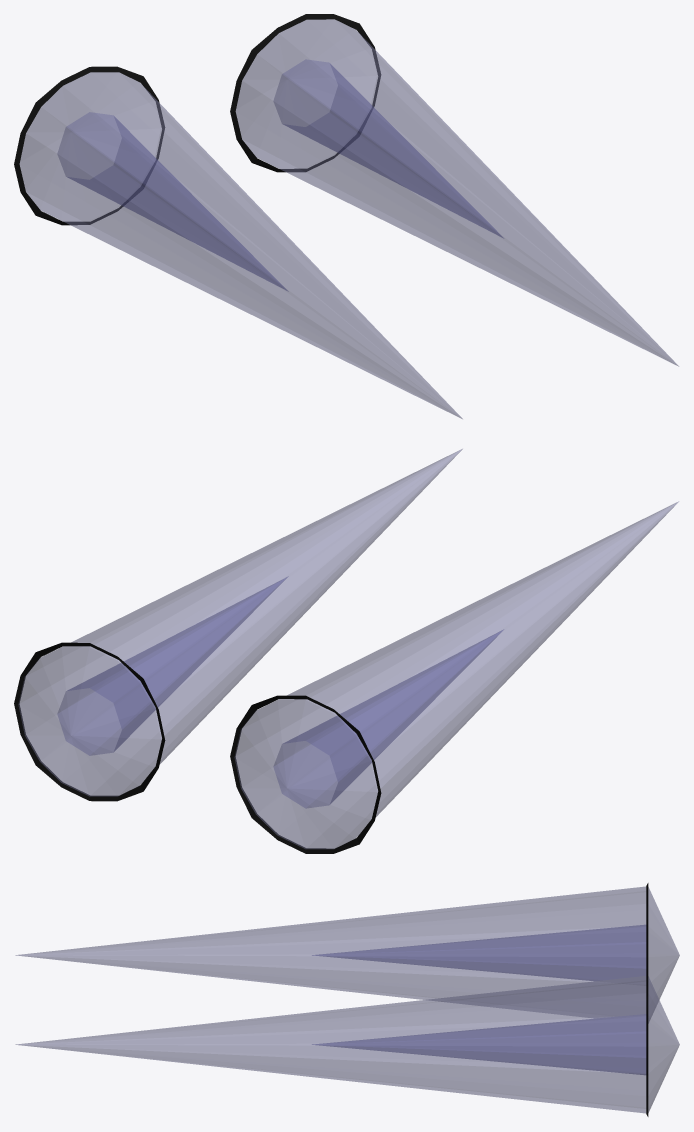
The model's file is Bunner_RafaleNG.obj.
3 renders of one model, top to bottom at view 1: azimuth 30°, elevation 25°; view 2: azimuth 150°, elevation 25°; view 3: azimuth 270°, elevation 25°, orthographic. The views are drawn at different scales.
Parts seen in each view (by area): view 1: ShapeIndexedFaceSet.062_ShapeIndexedFaceSet.063, ShapeIndexedFaceSet.060_ShapeIndexedFaceSet.061, ShapeIndexedFaceSet.061_ShapeIndexedFaceSet.062, ShapeIndexedFaceSet.059_ShapeIndexedFaceSet.060, ShapeIndexedFaceSet.008_ShapeIndexedFaceSet.009; view 2: ShapeIndexedFaceSet.062_ShapeIndexedFaceSet.063, ShapeIndexedFaceSet.060_ShapeIndexedFaceSet.061, ShapeIndexedFaceSet.059_ShapeIndexedFaceSet.060, ShapeIndexedFaceSet.061_ShapeIndexedFaceSet.062, ShapeIndexedFaceSet.008_ShapeIndexedFaceSet.009; view 3: ShapeIndexedFaceSet.062_ShapeIndexedFaceSet.063, ShapeIndexedFaceSet.060_ShapeIndexedFaceSet.061, ShapeIndexedFaceSet.061_ShapeIndexedFaceSet.062, ShapeIndexedFaceSet.059_ShapeIndexedFaceSet.060, ShapeIndexedFaceSet.008_ShapeIndexedFaceSet.009.
Boxes of the visible parts, bbox=[...] form: ShapeIndexedFaceSet.062_ShapeIndexedFaceSet.063: bbox=[235, 19, 678, 366]; ShapeIndexedFaceSet.060_ShapeIndexedFaceSet.061: bbox=[19, 72, 462, 418]; ShapeIndexedFaceSet.061_ShapeIndexedFaceSet.062: bbox=[274, 59, 503, 238]; ShapeIndexedFaceSet.059_ShapeIndexedFaceSet.060: bbox=[57, 112, 288, 291]; ShapeIndexedFaceSet.008_ShapeIndexedFaceSet.009: bbox=[14, 14, 380, 225]; ShapeIndexedFaceSet.062_ShapeIndexedFaceSet.063: bbox=[18, 449, 462, 796]; ShapeIndexedFaceSet.060_ShapeIndexedFaceSet.061: bbox=[234, 501, 678, 849]; ShapeIndexedFaceSet.059_ShapeIndexedFaceSet.060: bbox=[274, 629, 503, 808]; ShapeIndexedFaceSet.061_ShapeIndexedFaceSet.062: bbox=[57, 576, 288, 755]; ShapeIndexedFaceSet.008_ShapeIndexedFaceSet.009: bbox=[14, 642, 381, 853]; ShapeIndexedFaceSet.062_ShapeIndexedFaceSet.063: bbox=[15, 976, 679, 1113]; ShapeIndexedFaceSet.060_ShapeIndexedFaceSet.061: bbox=[15, 886, 679, 1022]; ShapeIndexedFaceSet.061_ShapeIndexedFaceSet.062: bbox=[312, 1014, 645, 1074]; ShapeIndexedFaceSet.059_ShapeIndexedFaceSet.060: bbox=[312, 925, 645, 980]; ShapeIndexedFaceSet.008_ShapeIndexedFaceSet.009: bbox=[646, 883, 648, 1116].
Size of the model in its own units: 17 by 7 by 31.5.
